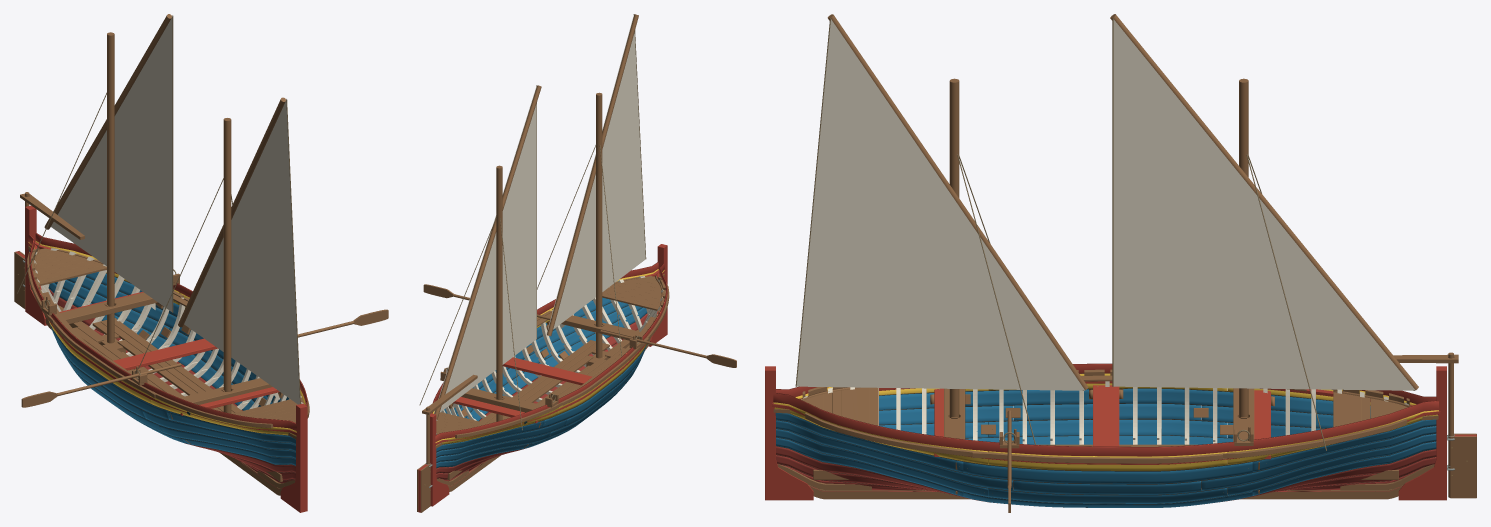
Rendered from latini-mobile.glb.
The picture shows the model from 3 angles, left to right: view 1: azimuth 30°, elevation 25°; view 2: azimuth 150°, elevation 25°; view 3: azimuth 270°, elevation 25°; orthographic projection. The views are drawn at different scales.
Parts seen in each view (by area): view 1: sail-459, sail-474, mast-472, mast-457, washboards-74, bow-post-5, yard-473, yard-458, thwarts-339, mast-partners-454, planking-52, planking-57 (+29 smaller); view 2: sail-459, sail-474, mast-472, yard-458, mast-457, yard-473, washboards-74, thwarts-339, planking-57, stern-post-6, planking-50, mast-partners-454 (+23 smaller); view 3: sail-459, sail-474, washboards-173, planking-156, planking-57, planking-37, yard-458, bow-post-5, stern-post-6, keel-0, yard-473, planking-136 (+32 smaller).
Part boxes in pixels (x1,y1,x2,y2): sail-459: [51, 17, 172, 311]; sail-474: [184, 100, 299, 404]; mast-472: [223, 118, 231, 413]; mast-457: [107, 32, 114, 343]; washboards-74: [28, 234, 296, 431]; bow-post-5: [280, 403, 307, 512]; yard-473: [178, 97, 285, 327]; yard-458: [44, 14, 171, 229]; thwarts-339: [113, 338, 217, 370]; mast-partners-454: [60, 292, 157, 323]; planking-52: [142, 410, 295, 451]; planking-57: [50, 325, 168, 419]; sail-459: [434, 86, 536, 413]; sail-474: [546, 15, 645, 334]; mast-472: [596, 92, 602, 358]; yard-458: [434, 85, 541, 419]; mast-457: [496, 165, 502, 421]; yard-473: [547, 14, 638, 336]; washboards-74: [435, 263, 667, 442]; thwarts-339: [502, 357, 592, 385]; planking-57: [542, 347, 645, 427]; stern-post-6: [430, 413, 449, 506]; planking-50: [436, 419, 567, 457]; mast-partners-454: [461, 388, 543, 412]; sail-459: [1113, 19, 1415, 390]; sail-474: [796, 19, 1084, 390]; washboards-173: [773, 393, 1438, 456]; planking-156: [963, 462, 1252, 483]; planking-57: [965, 388, 1233, 406]; planking-37: [988, 419, 1227, 437]; yard-458: [1110, 14, 1418, 390]; bow-post-5: [765, 366, 813, 500]; stern-post-6: [1398, 366, 1446, 500]; keel-0: [827, 487, 1384, 499]; yard-473: [827, 14, 1088, 390]; planking-136: [988, 488, 1227, 503].
Size of the model in its own units: 9.68 by 9.93 by 13.15.
